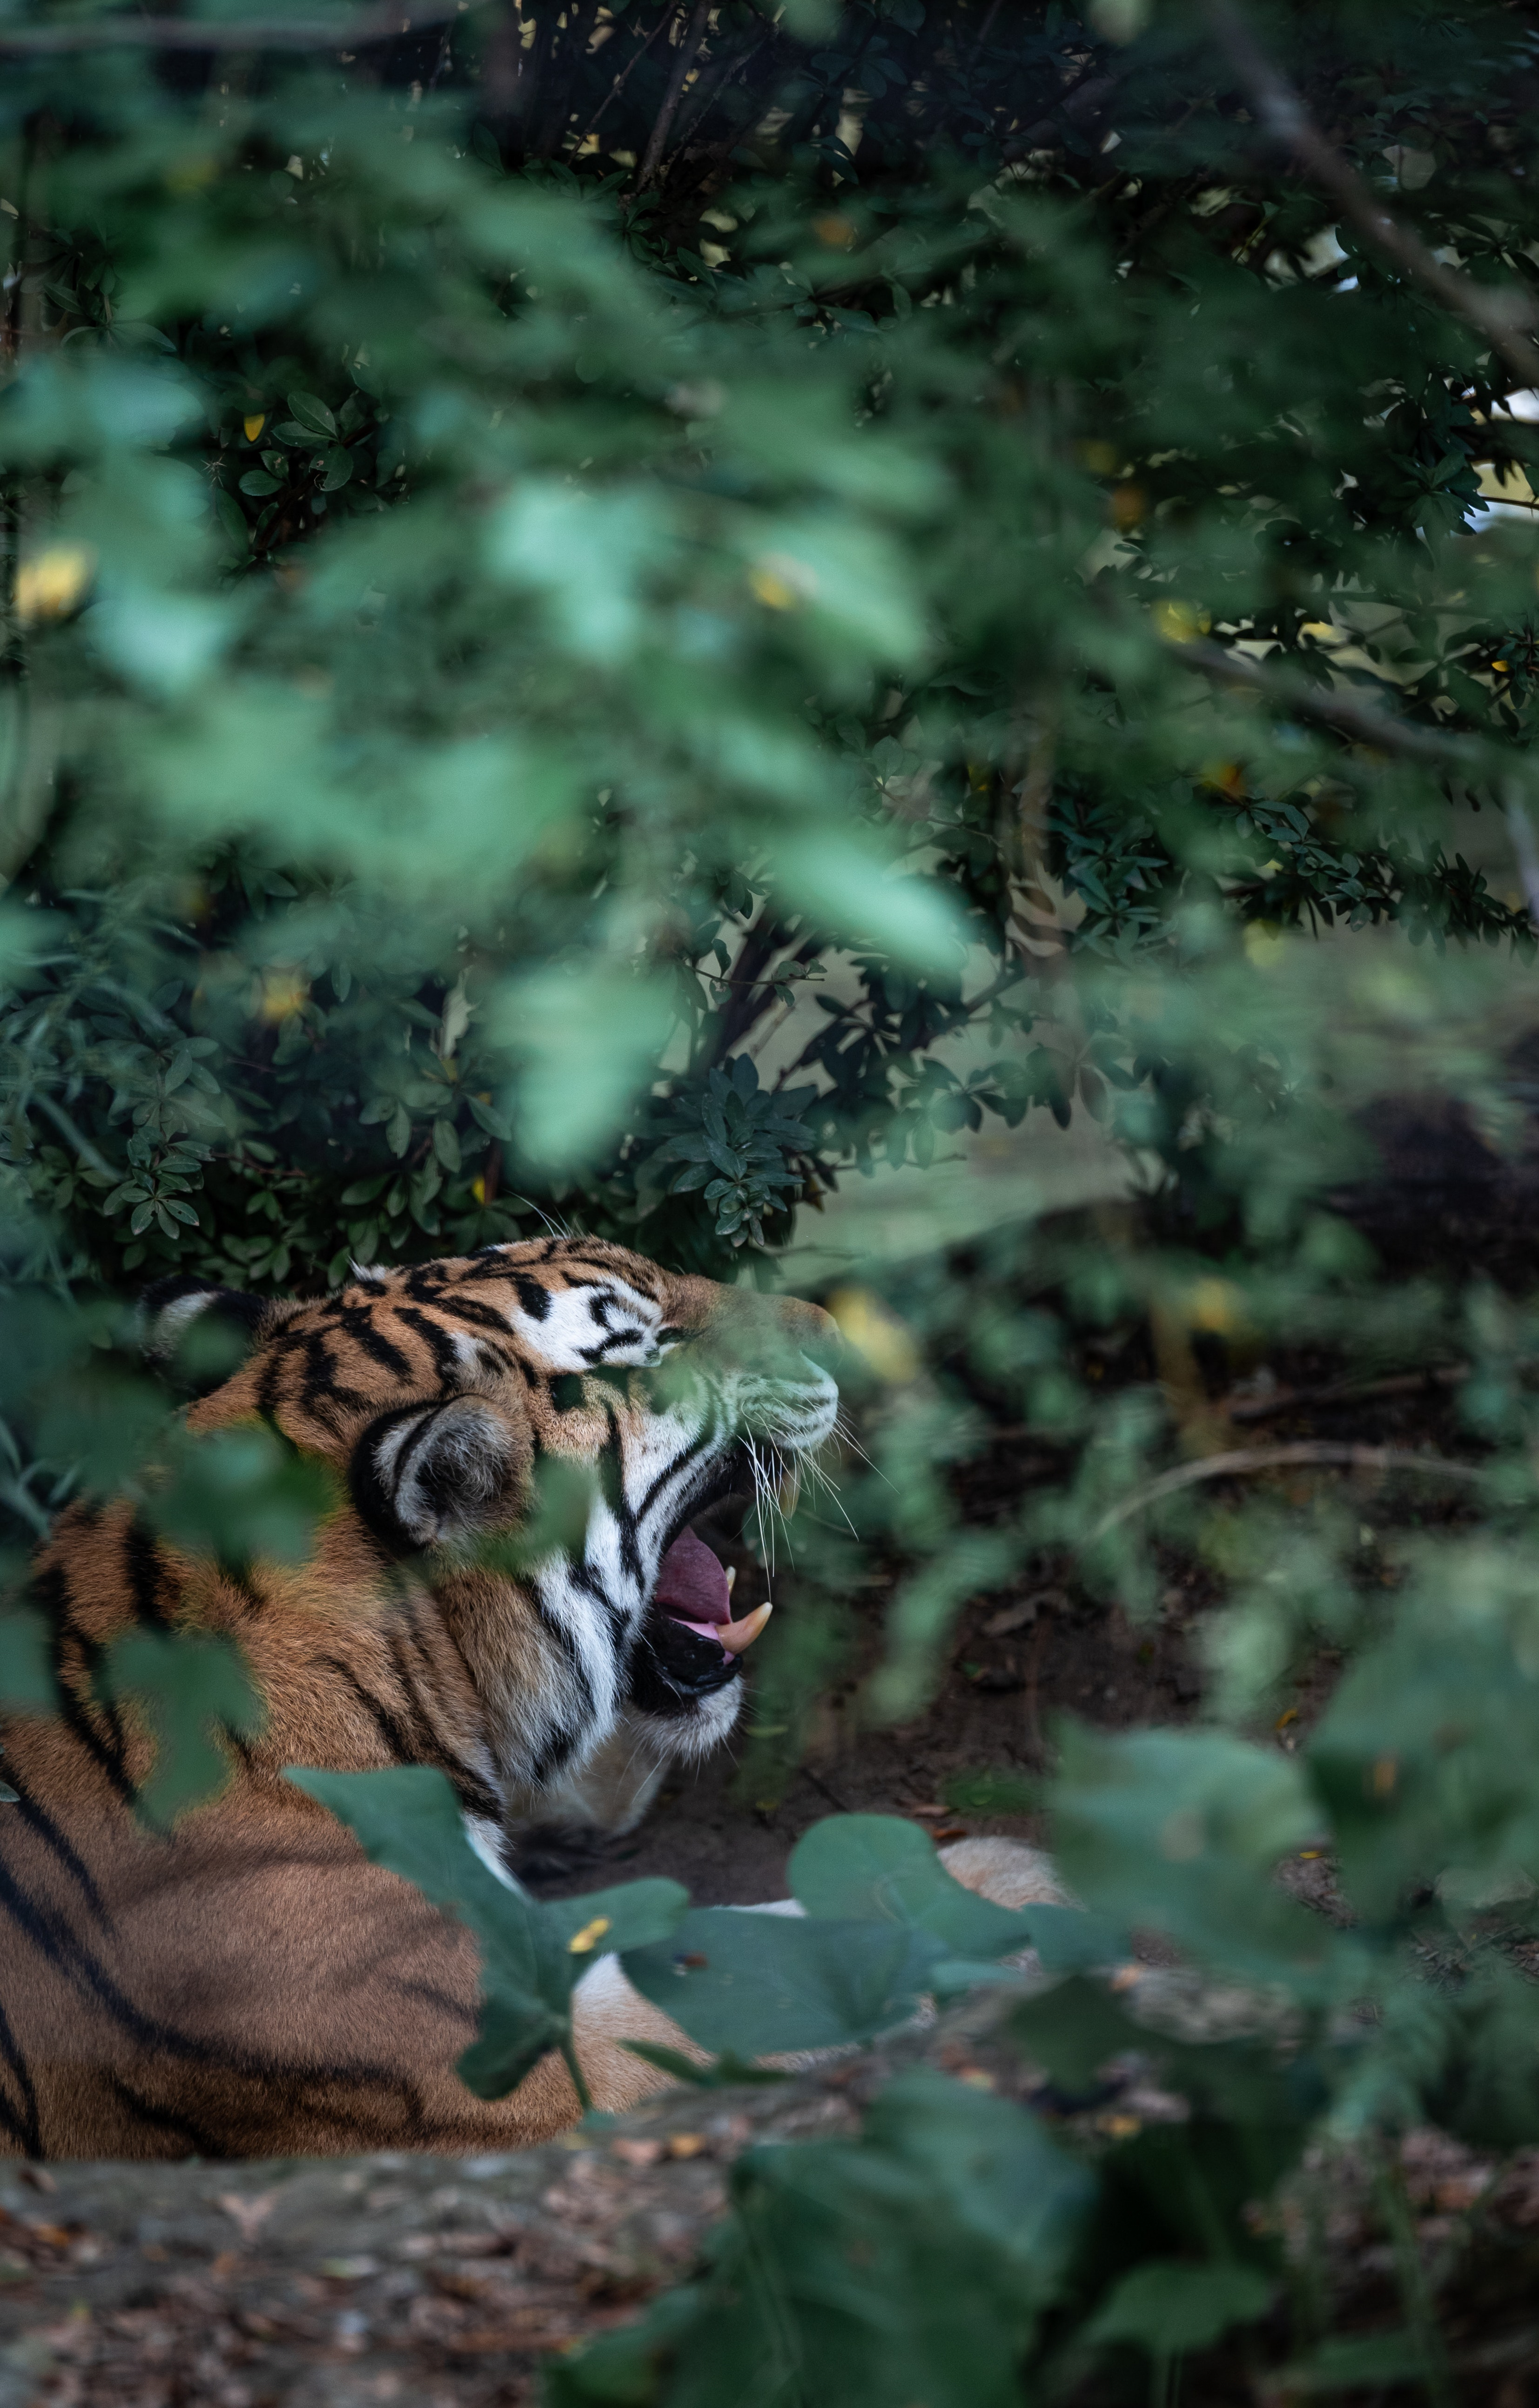tiger: (88, 1129, 932, 2110)
